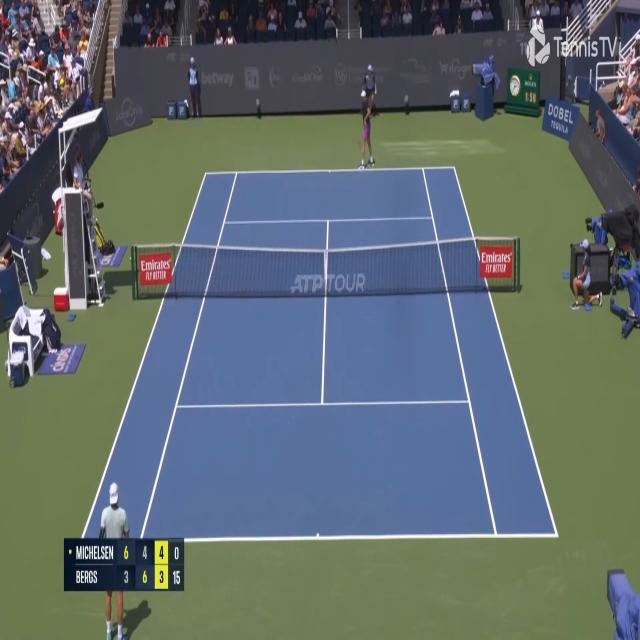tennis-player: (104, 480, 132, 640), (358, 85, 379, 172)
